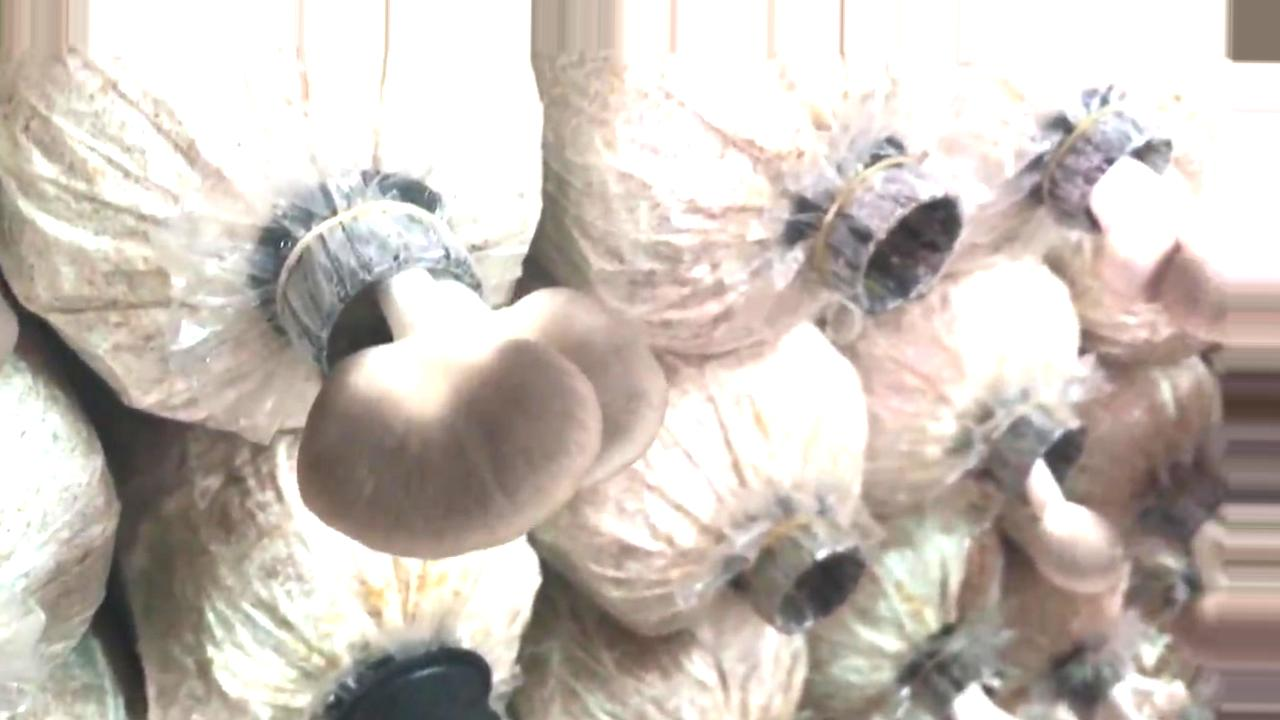nam: (292, 203, 666, 556), (1070, 107, 1280, 344), (1010, 406, 1125, 598)
